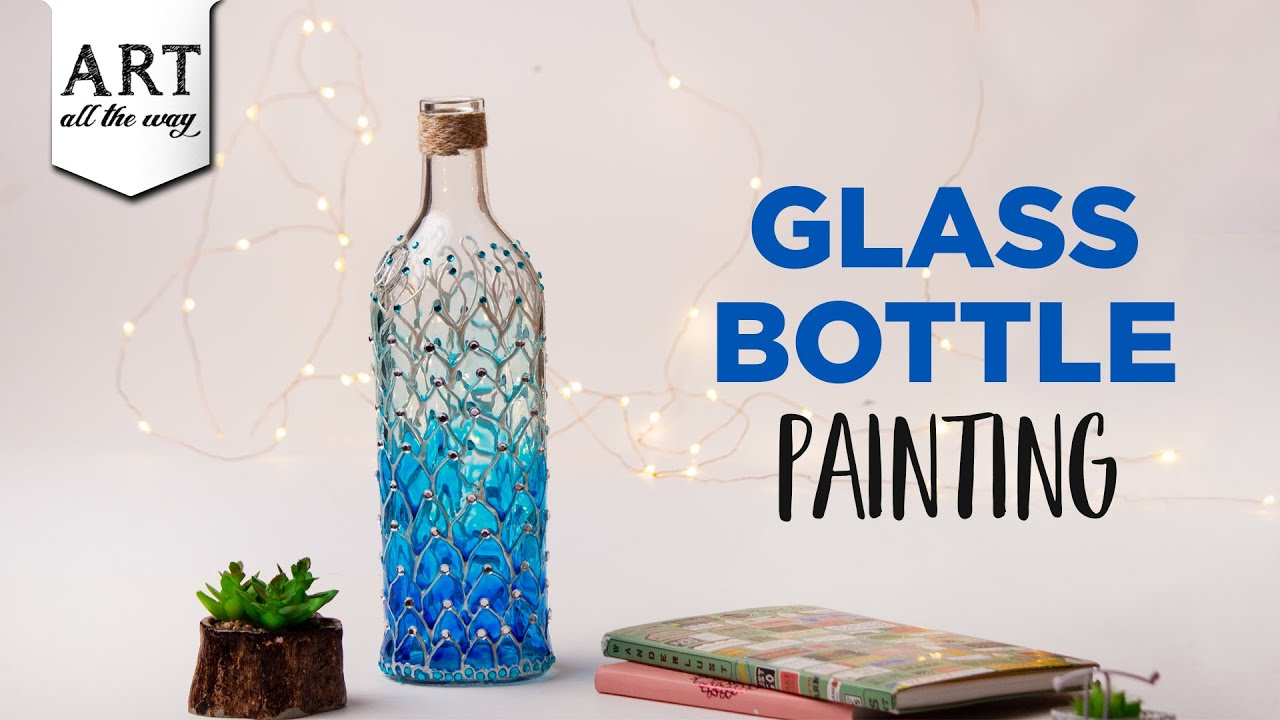glass_bottle: (358, 85, 573, 694)
